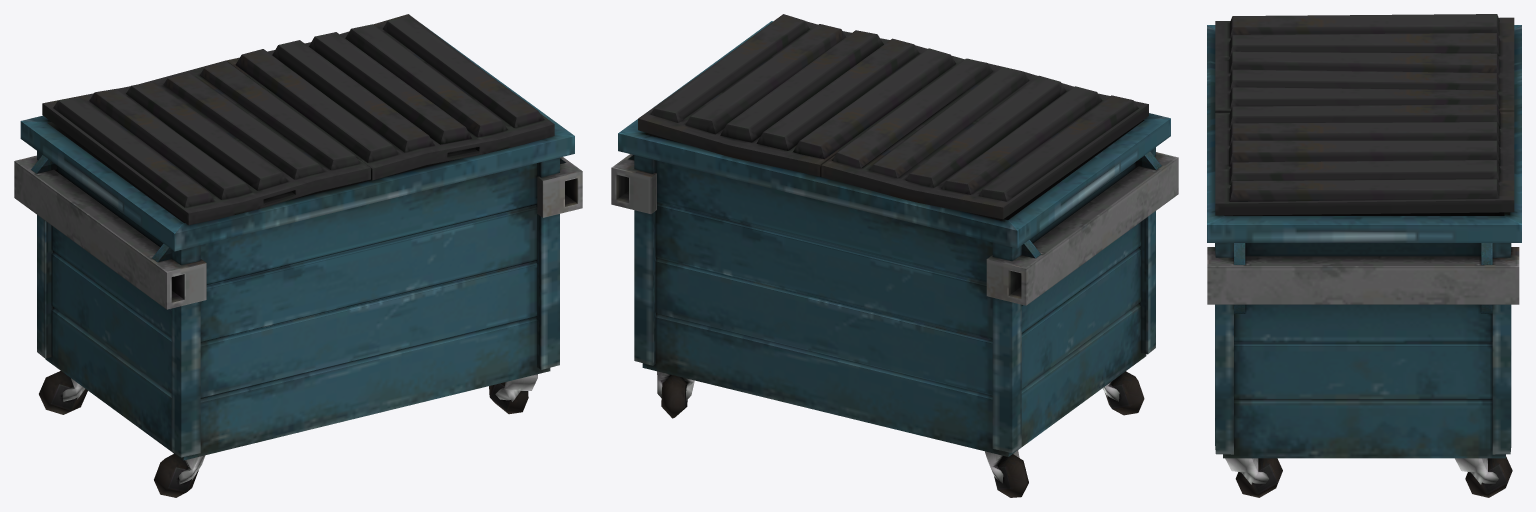
The model's file is Garbagebin.FBX.
3 views of the same model, side by side, from view 1: azimuth 30°, elevation 25°; view 2: azimuth 150°, elevation 25°; view 3: azimuth 270°, elevation 25° (orthographic). The views are drawn at different scales.
Parts seen in each view (by area): view 1: sm_garbagebin; view 2: sm_garbagebin; view 3: sm_garbagebin.
Boxes of the visible parts, x1,y1,x2,y2 form: sm_garbagebin: (14, 14, 582, 497); sm_garbagebin: (611, 14, 1178, 497); sm_garbagebin: (1207, 14, 1521, 497).
Size of the model in its own units: 187 by 134 by 120.
